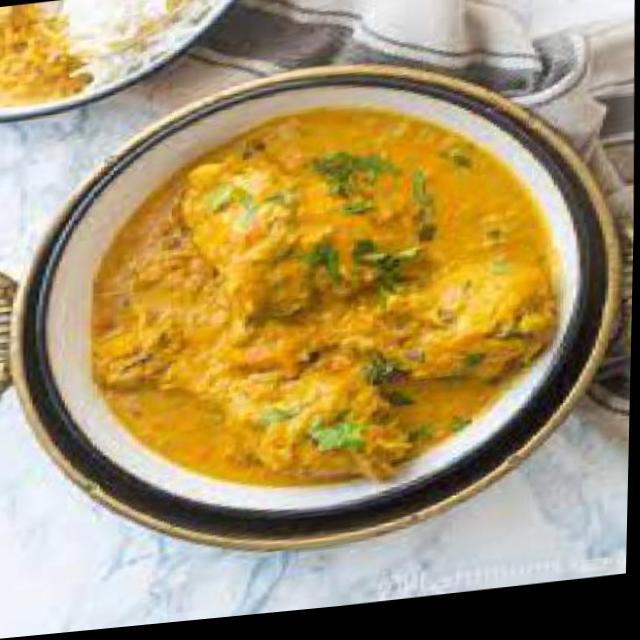CHICKEN CURRY: (77, 107, 560, 485)
